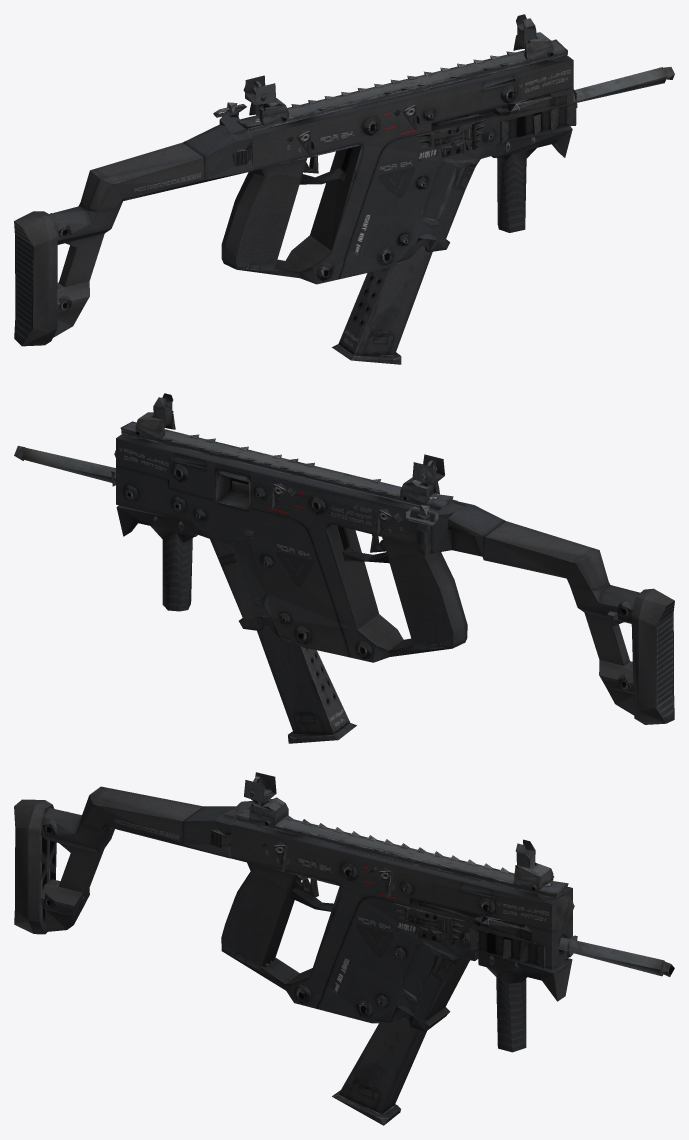
Rendered from Kriss_01.fbx.
3 renders of one model, top to bottom at view 1: azimuth 30°, elevation 25°; view 2: azimuth 150°, elevation 25°; view 3: azimuth 330°, elevation 25°, orthographic.
Parts seen in each view (by area): view 1: Kriss; view 2: Kriss; view 3: Kriss.
Part boxes in pixels (left/top/right/bottom): Kriss: left=14, top=14, right=674, bottom=364; Kriss: left=14, top=393, right=674, bottom=743; Kriss: left=14, top=772, right=674, bottom=1125.
Bounding box in the file's own units: 176 × 79.57 × 17.96.
Materials: 1 (1 with a texture image).
